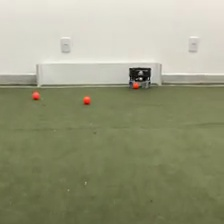ball: (82, 94, 92, 105), (31, 89, 40, 100), (131, 79, 140, 89)
goal: (35, 61, 163, 87)
robot: (127, 66, 152, 89)
